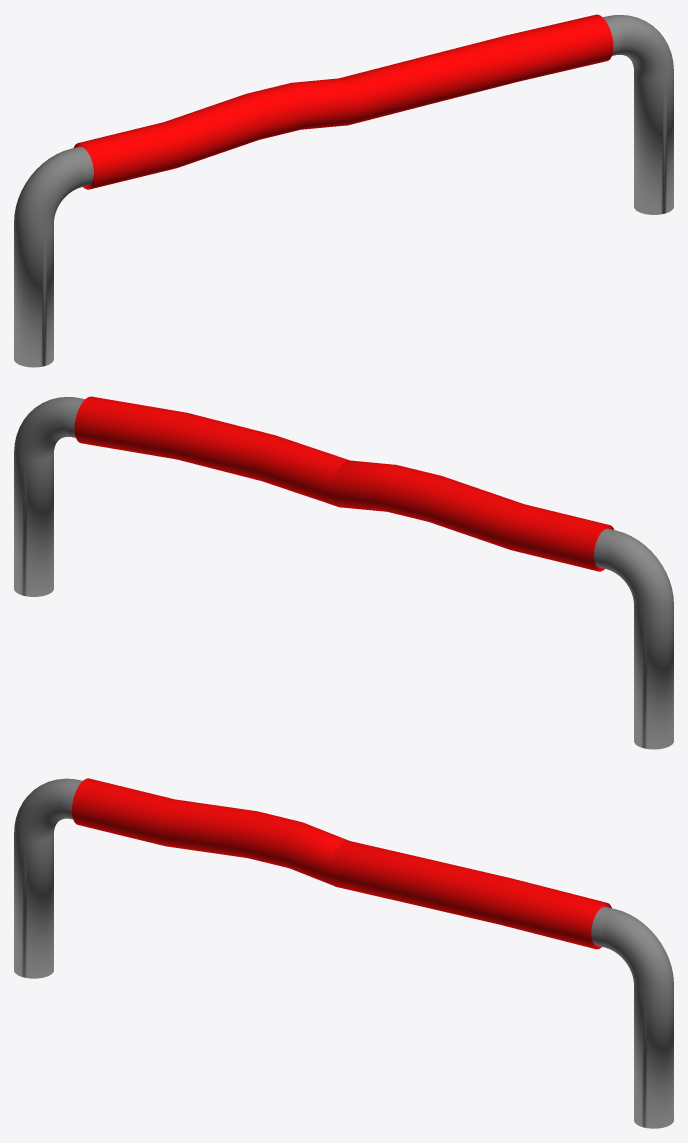
The model's file is cable_rojo_11.fbx.
3 renders of one model, top to bottom at view 1: azimuth 30°, elevation 25°; view 2: azimuth 150°, elevation 25°; view 3: azimuth 330°, elevation 25°, orthographic.
Visible parts, largest first — view 1: Cilindro_rojo_ext_11, Cilindro_rojo_int_11; view 2: Cilindro_rojo_ext_11, Cilindro_rojo_int_11; view 3: Cilindro_rojo_ext_11, Cilindro_rojo_int_11.
Part boxes in pixels (x1,y1,x2,y2): Cilindro_rojo_ext_11: (73, 14, 613, 189); Cilindro_rojo_int_11: (14, 15, 673, 367); Cilindro_rojo_ext_11: (74, 396, 614, 571); Cilindro_rojo_int_11: (14, 397, 673, 749); Cilindro_rojo_ext_11: (72, 778, 611, 949); Cilindro_rojo_int_11: (14, 778, 673, 1128).
Bounding box in the file's own units: 151 × 46.41 × 10.85.
